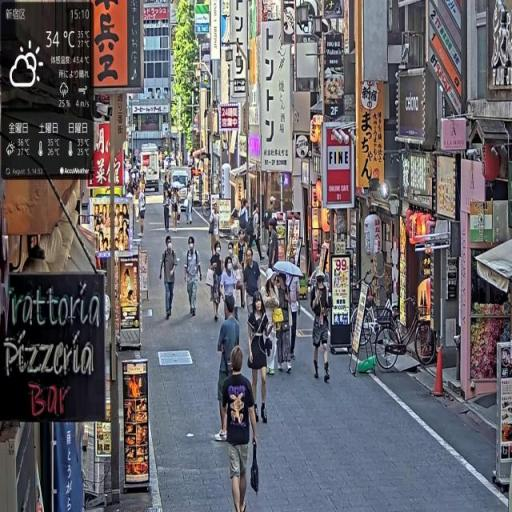person: (222, 361, 259, 512), (310, 266, 333, 384), (253, 266, 276, 373), (220, 302, 241, 411), (236, 291, 257, 397), (240, 242, 259, 323), (185, 232, 203, 312), (217, 252, 234, 336), (162, 227, 179, 311), (207, 237, 222, 316)
